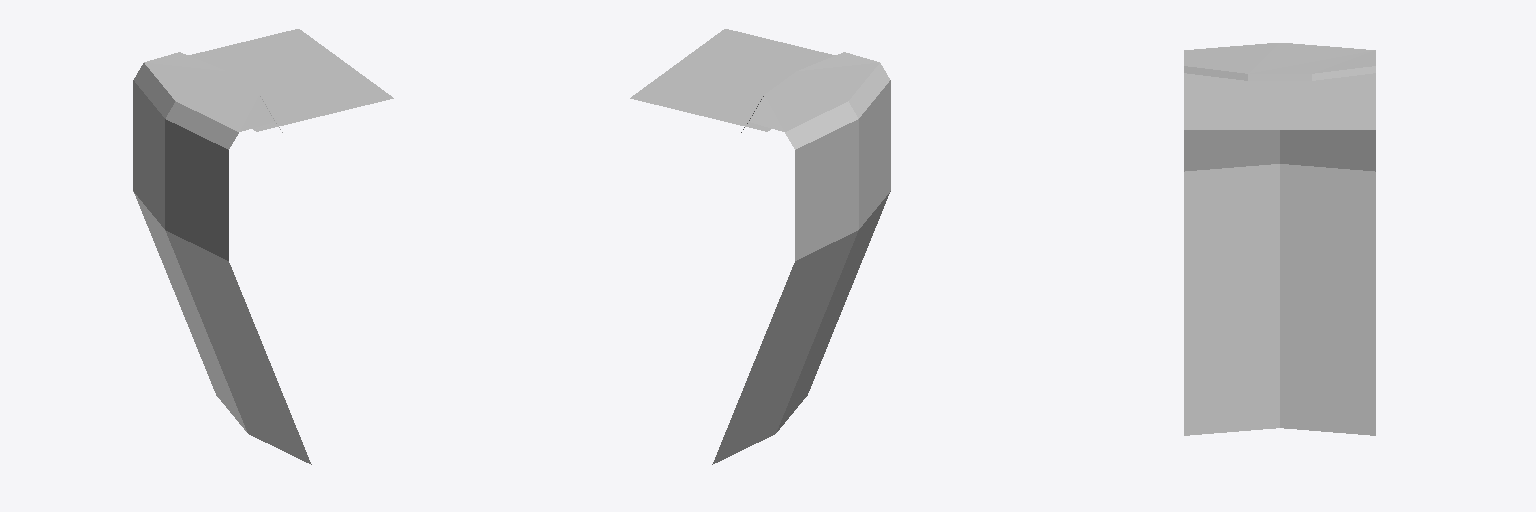
The model's file is wall_tile_b_02.obj.
3 views of the same model, side by side, from view 1: azimuth 30°, elevation 25°; view 2: azimuth 150°, elevation 25°; view 3: azimuth 270°, elevation 25° (orthographic).
Visible parts, largest first — view 1: wall_tile_b_02; view 2: wall_tile_b_02; view 3: wall_tile_b_02.
Boxes of the visible parts, box(x1,y1,x2,y2) form: wall_tile_b_02: box(133, 29, 393, 464); wall_tile_b_02: box(630, 29, 890, 464); wall_tile_b_02: box(1184, 43, 1375, 435).
Size of the model in its own units: 219 by 406 by 200.